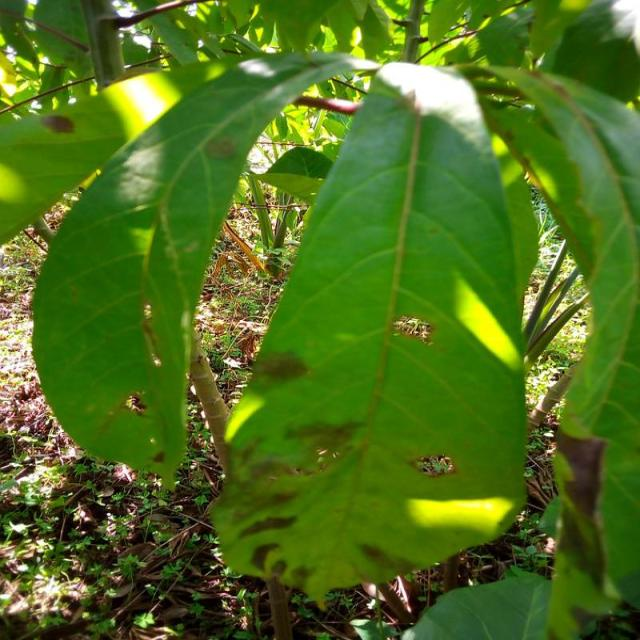cassava leaf: (210, 58, 534, 604), (29, 47, 365, 490)
